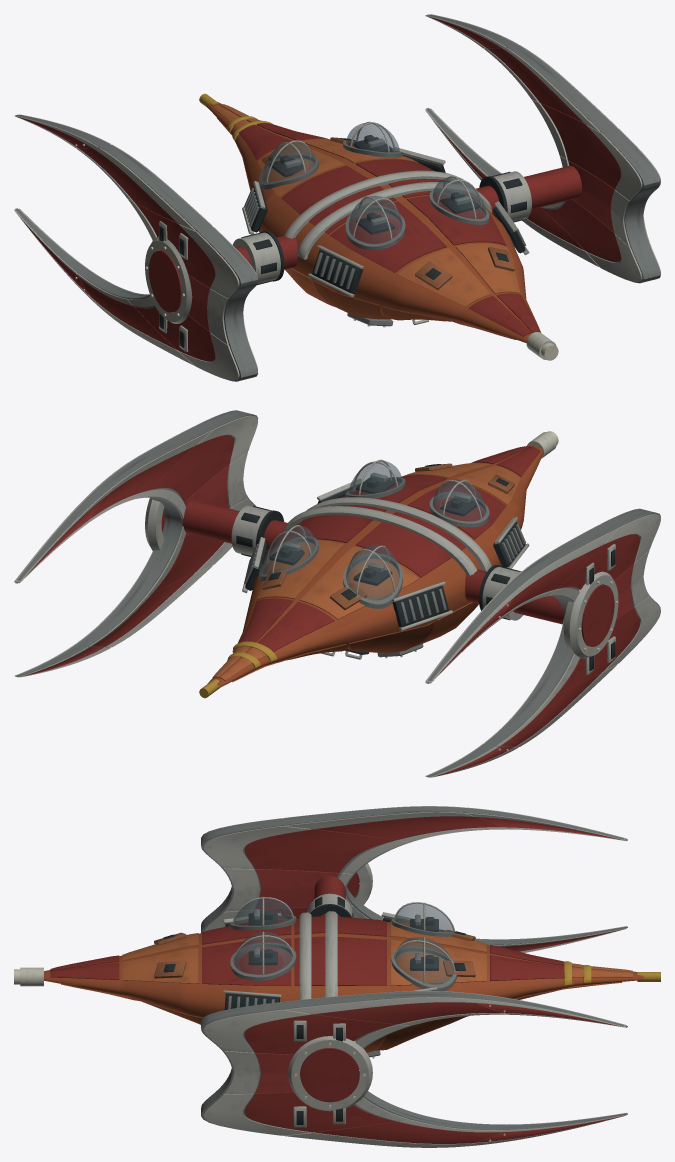
3 views of the same model, one above another, from view 1: azimuth 30°, elevation 25°; view 2: azimuth 150°, elevation 25°; view 3: azimuth 270°, elevation 25° (orthographic). The views are drawn at different scales.
Visible parts, largest first — view 1: FormedHullSkins, CrimsonCrescentInsets, SilverCrescentRims, CrescentStructure, PressureHull, ServiceEquipment, BridgeGlass, BridgeFrames, TransverseStructure, DorsalStructure, RootServiceCollars, BellyCargoHatches (+1 smaller); view 2: FormedHullSkins, CrimsonCrescentInsets, SilverCrescentRims, CrescentStructure, PressureHull, ServiceEquipment, BridgeGlass, BridgeFrames, TransverseStructure, RootServiceCollars, DorsalStructure, BellyCargoHatches; view 3: CrimsonCrescentInsets, FormedHullSkins, SilverCrescentRims, CrescentStructure, PressureHull, BridgeGlass, RootServiceCollars, BridgeFrames, ServiceEquipment, DorsalStructure, BellyCargoHatches, TransverseStructure (+1 smaller).
Boxes of the visible parts, box(x1,y1,x2,y2) form: FormedHullSkins: box(212, 104, 540, 337); CrimsonCrescentInsets: box(18, 16, 621, 361); SilverCrescentRims: box(14, 14, 660, 380); CrescentStructure: box(15, 14, 660, 381); PressureHull: box(207, 102, 540, 342); ServiceEquipment: box(159, 137, 529, 352); BridgeGlass: box(262, 122, 486, 243); BridgeFrames: box(259, 121, 489, 250); TransverseStructure: box(233, 166, 581, 283); DorsalStructure: box(284, 170, 491, 259); RootServiceCollars: box(145, 236, 192, 323); BellyCargoHatches: box(217, 118, 515, 339); FormedHullSkins: box(212, 446, 540, 680); CrimsonCrescentInsets: box(14, 435, 639, 776); SilverCrescentRims: box(14, 413, 660, 777); CrescentStructure: box(15, 410, 660, 777); PressureHull: box(207, 445, 543, 687); ServiceEquipment: box(236, 463, 615, 675); BridgeGlass: box(262, 460, 486, 600); BridgeFrames: box(259, 459, 489, 608); TransverseStructure: box(182, 500, 563, 624); RootServiceCollars: box(145, 497, 618, 658); DorsalStructure: box(284, 497, 491, 575); BellyCargoHatches: box(232, 602, 478, 682); CrimsonCrescentInsets: box(244, 816, 626, 1143); FormedHullSkins: box(50, 916, 632, 985); SilverCrescentRims: box(203, 806, 626, 1147); CrescentStructure: box(201, 806, 627, 1132); PressureHull: box(44, 922, 643, 1049); BridgeGlass: box(234, 898, 453, 984); RootServiceCollars: box(288, 863, 372, 1111); BridgeFrames: box(230, 896, 457, 991); ServiceEquipment: box(154, 896, 475, 1127); DorsalStructure: box(299, 911, 337, 999); BellyCargoHatches: box(61, 982, 622, 1052); TransverseStructure: box(307, 875, 352, 917).
Bounding box in the file's own units: 13.01 × 4.63 × 18.
2 materials, 1 textured.
